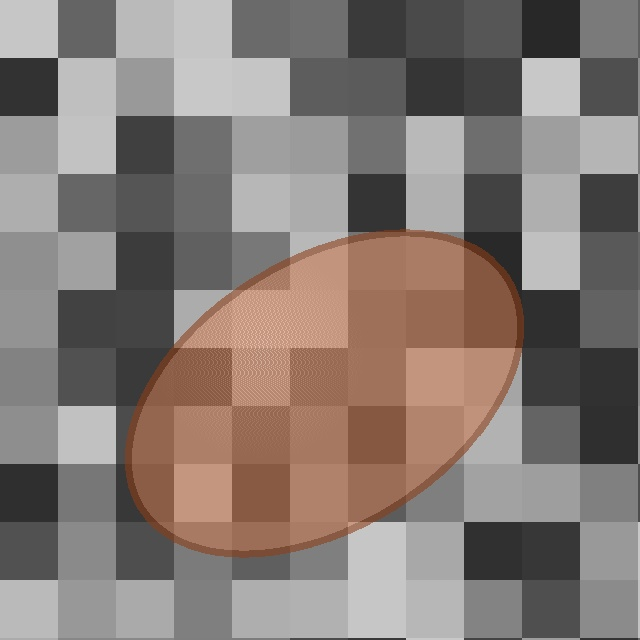lens: (129, 232, 519, 554)
